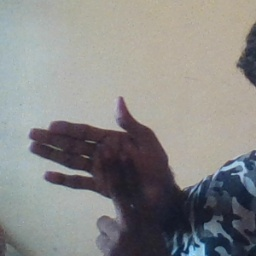N: (20, 91, 178, 231)
